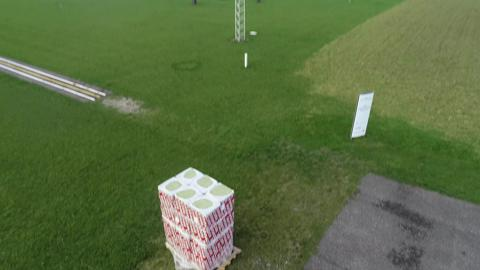RockwoolPallet: (156, 166, 235, 270)
